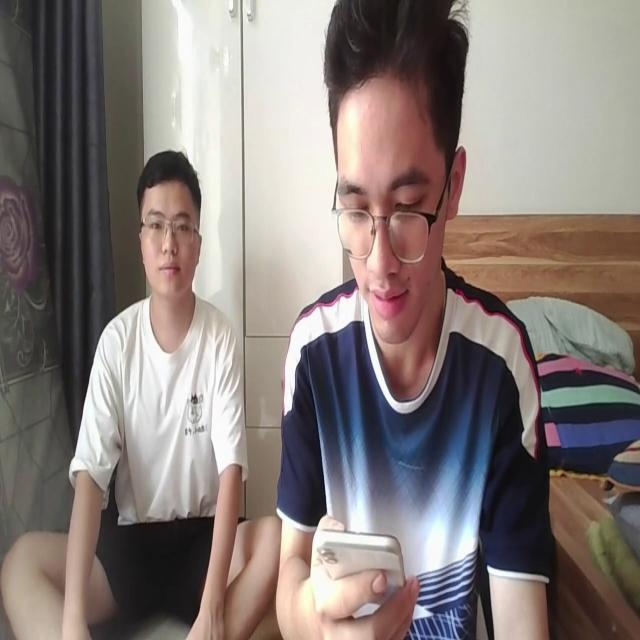extra_person: (5, 143, 282, 640)
phone: (309, 517, 409, 627)
student: (278, 0, 554, 640)
